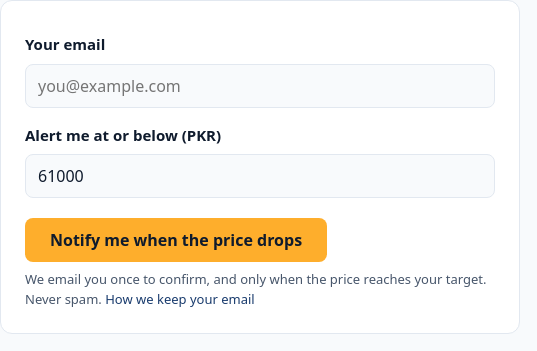
Test: AlertForm › sends the listing id, the trimmed email and the target as a number, and shows the server's own words
In the field labelled "Your email": [260, 86] box [25, 64, 495, 108], type "  shopper@example.com "
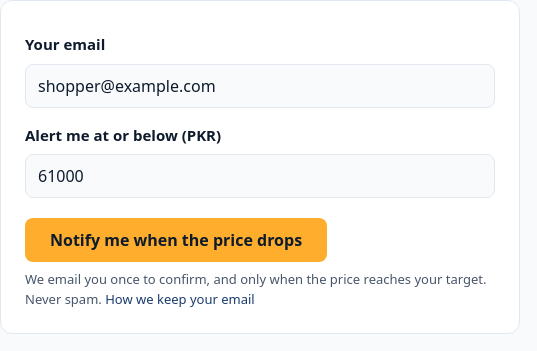
Replace the text in the number field labelled "Alert me at or below (PKR)" with "60000": [260, 176] box [25, 154, 495, 198]
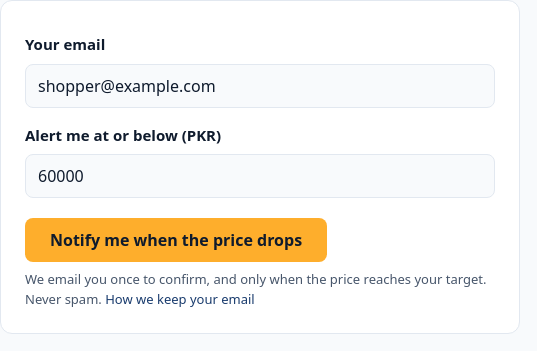
Click the button "Notify me when the price drops": [176, 240] box [25, 218, 327, 262]
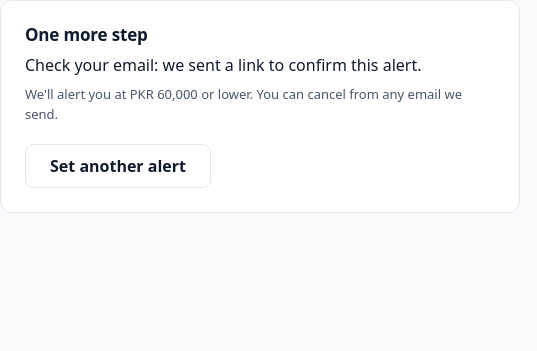
Expected: the message shows "One more step", [25, 23, 148, 46]
Expected: the message shows "Check your email: we sent a link to confirm this alert.", [25, 54, 422, 76]
Expected: the message shows "PKR 60,000 or lower", [0, 0, 520, 213]
